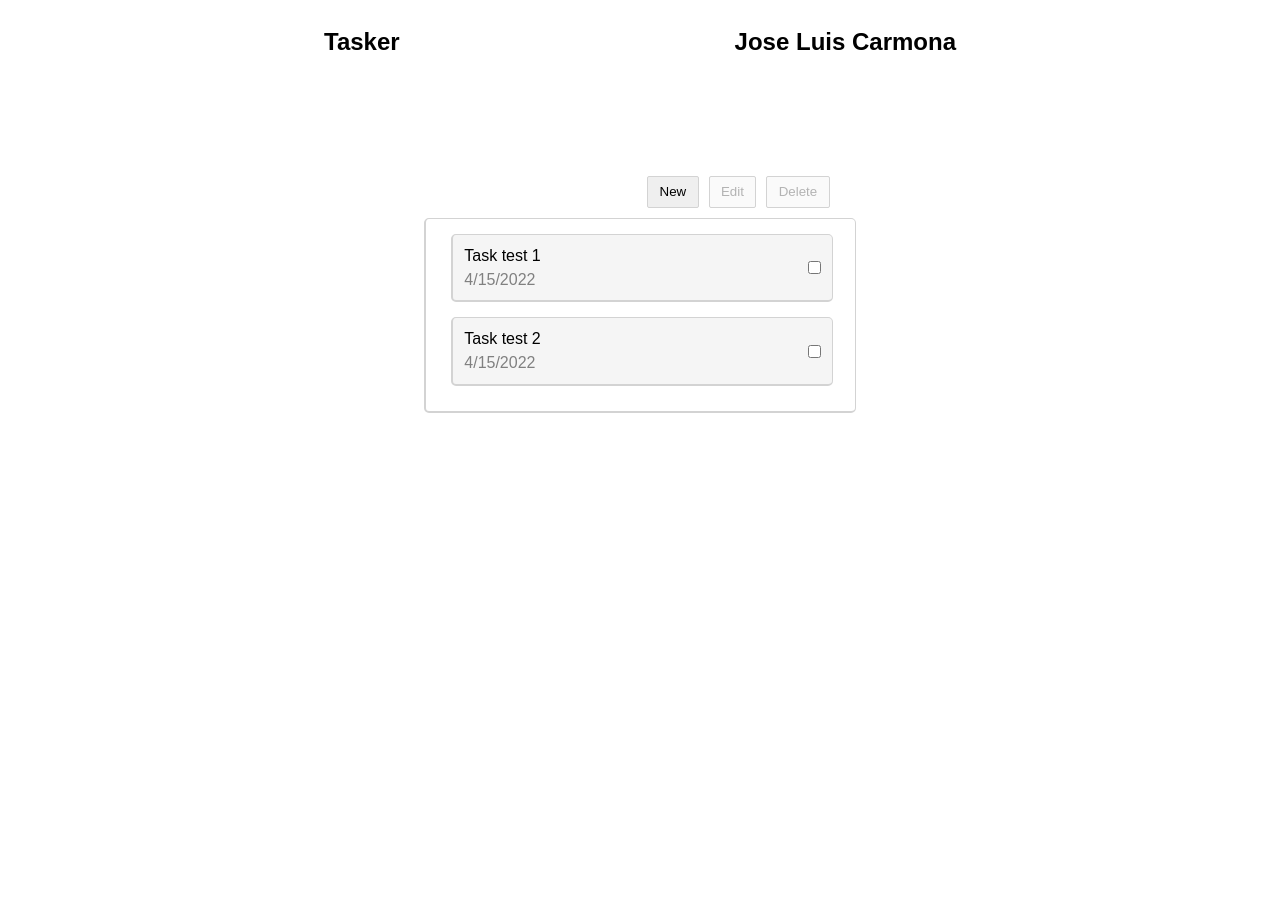
App component › When the button close of the modal window is clicked, the  modal window is not showed anymore
The width and height of the screenshot is (1280, 900).
Click the button "New".
click(673, 192)  # box x1=647 y1=176 x2=699 y2=208
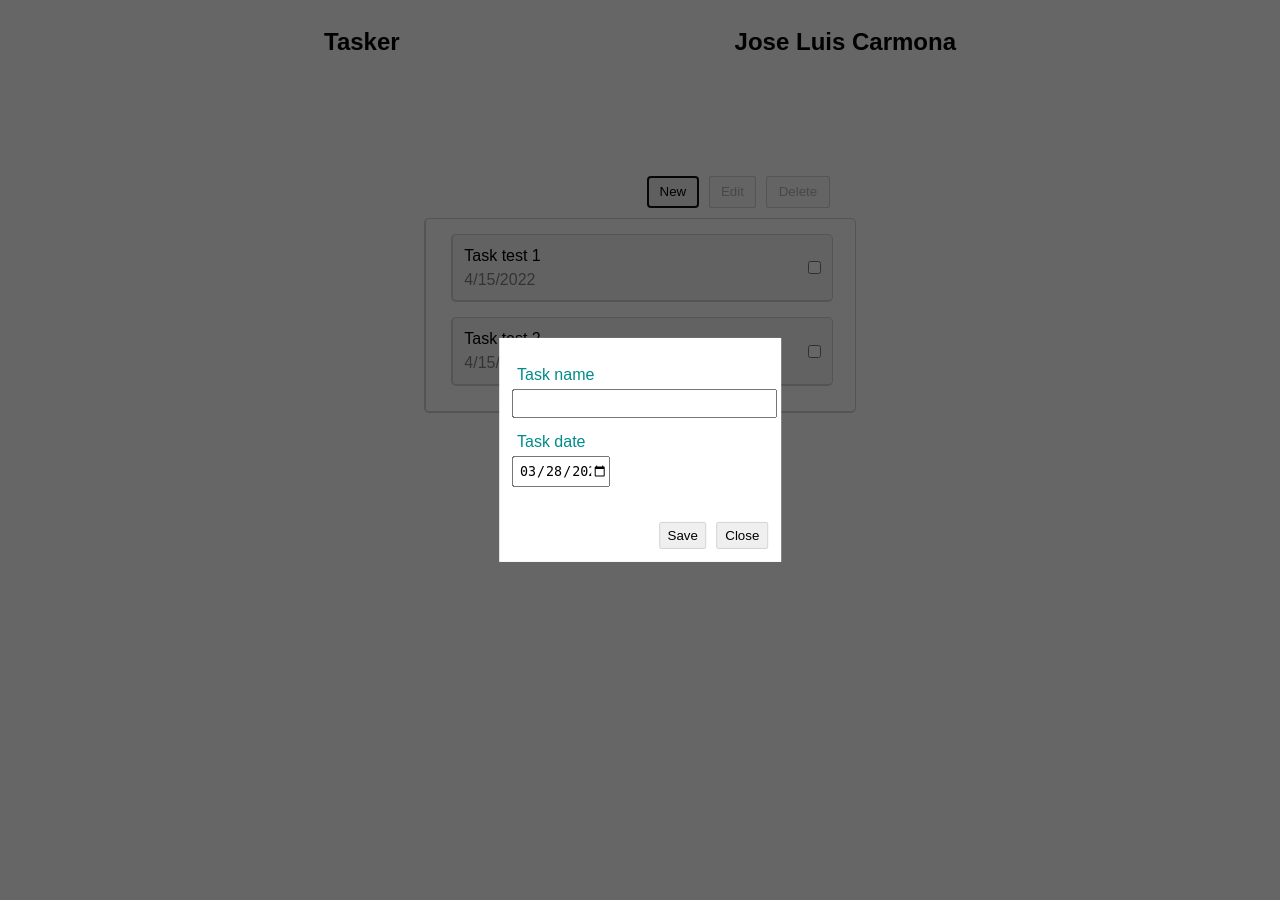
Click the button "Close".
click(742, 536)  # box x1=717 y1=522 x2=768 y2=549
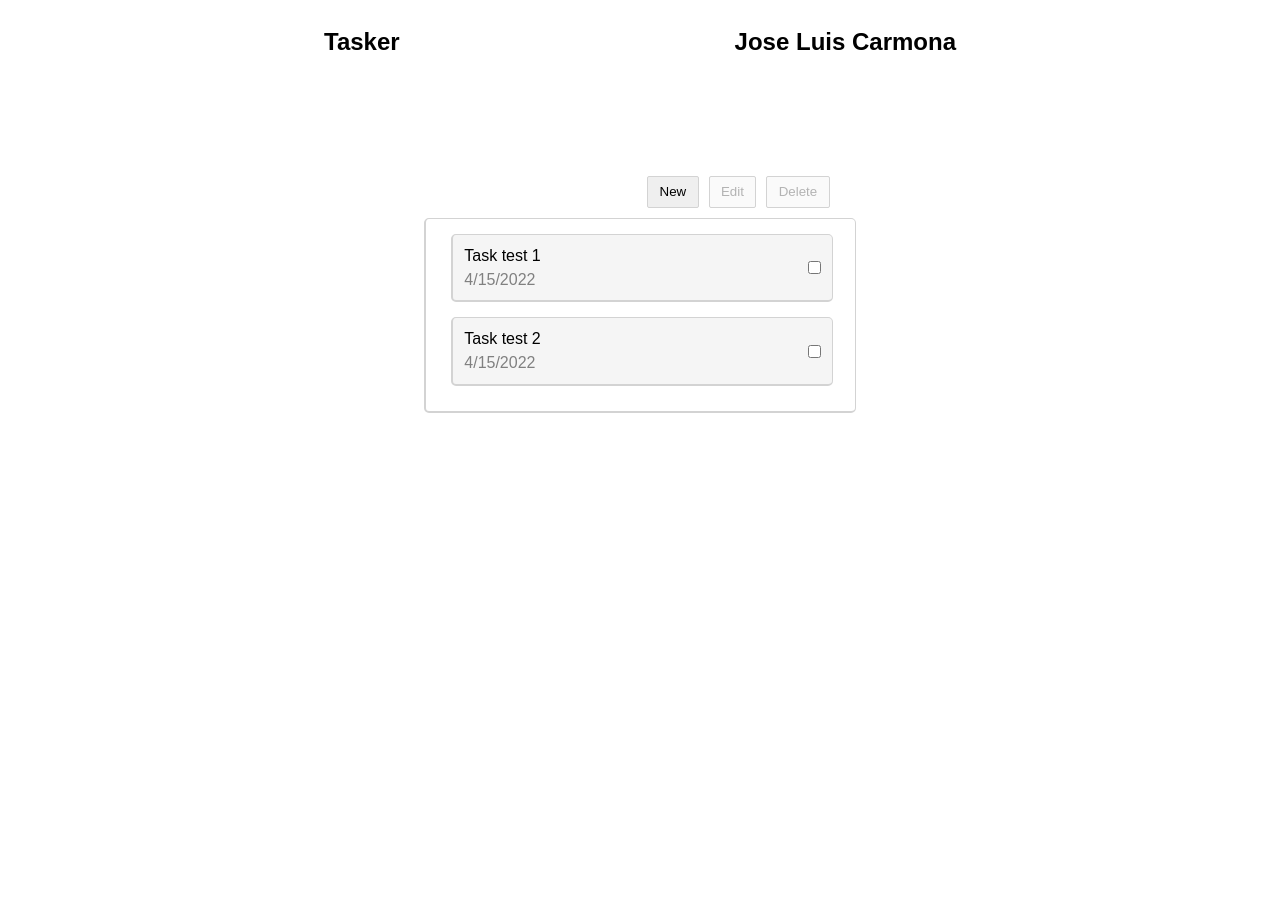
Now the element with class "modal" is gone
